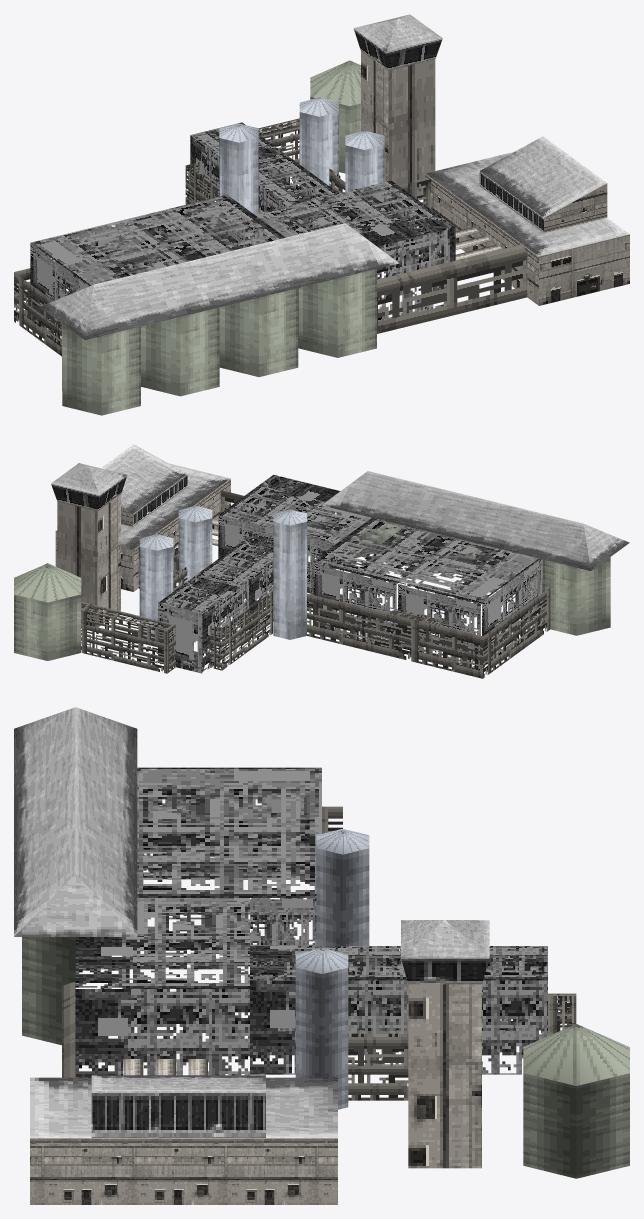
File: uvmd-0198.glb
The picture shows the model from 3 angles, top to bottom: view 1: azimuth 30°, elevation 25°; view 2: azimuth 150°, elevation 25°; view 3: azimuth 270°, elevation 25°; orthographic projection. The views are drawn at different scales.
Visible parts, largest first — view 1: uvmd-0198; view 2: uvmd-0198; view 3: uvmd-0198.
Boxes of the visible parts, x1,y1,x2,y2 form: uvmd-0198: [14, 14, 629, 415]; uvmd-0198: [14, 444, 629, 678]; uvmd-0198: [14, 707, 629, 1204].
Size of the model in its own units: 1400 by 417 by 1000.
Materials: 6 (6 with a texture image).
